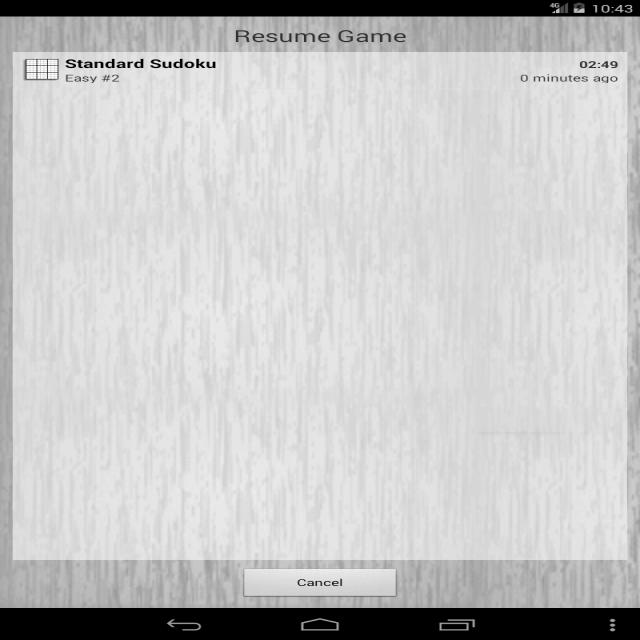Button: (236, 563, 407, 601)
ImageView: (18, 52, 66, 84)
TextView: (233, 25, 410, 45), (72, 53, 221, 73), (515, 68, 624, 86)
